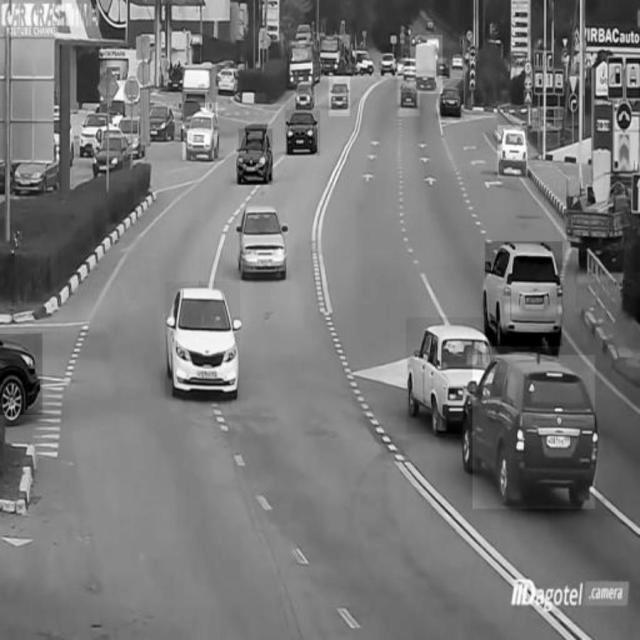vehicle: (473, 355, 595, 509), (165, 282, 241, 402), (407, 318, 483, 434), (486, 241, 563, 345), (238, 207, 289, 278), (1, 334, 43, 415), (182, 103, 218, 160), (95, 125, 130, 181), (239, 129, 273, 185), (411, 35, 443, 93), (285, 110, 320, 156), (498, 126, 528, 178), (289, 41, 316, 87), (149, 102, 175, 142), (439, 80, 464, 120), (398, 72, 420, 117), (329, 76, 349, 116), (294, 75, 316, 109), (378, 46, 398, 83)
